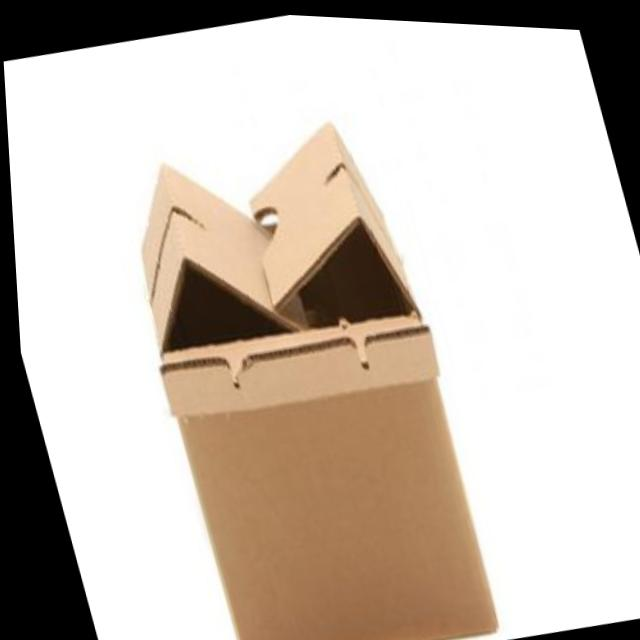box: (94, 99, 516, 640)
